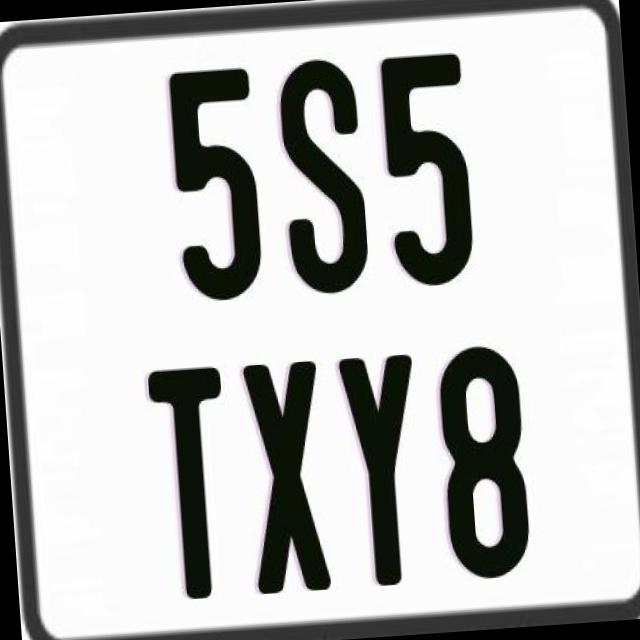5: (168, 63, 270, 305), (376, 51, 479, 290)
8: (435, 342, 533, 580)
S: (276, 54, 375, 300)
T: (144, 364, 233, 608)
X: (239, 358, 334, 596)
Y: (333, 350, 431, 589)
